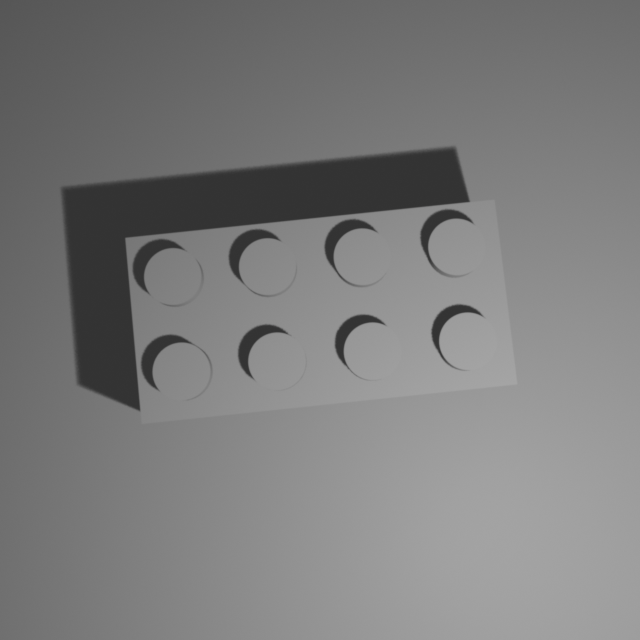lego_2x4: (121, 195, 522, 425)
